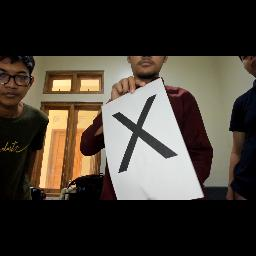x: (100, 92, 180, 174)
